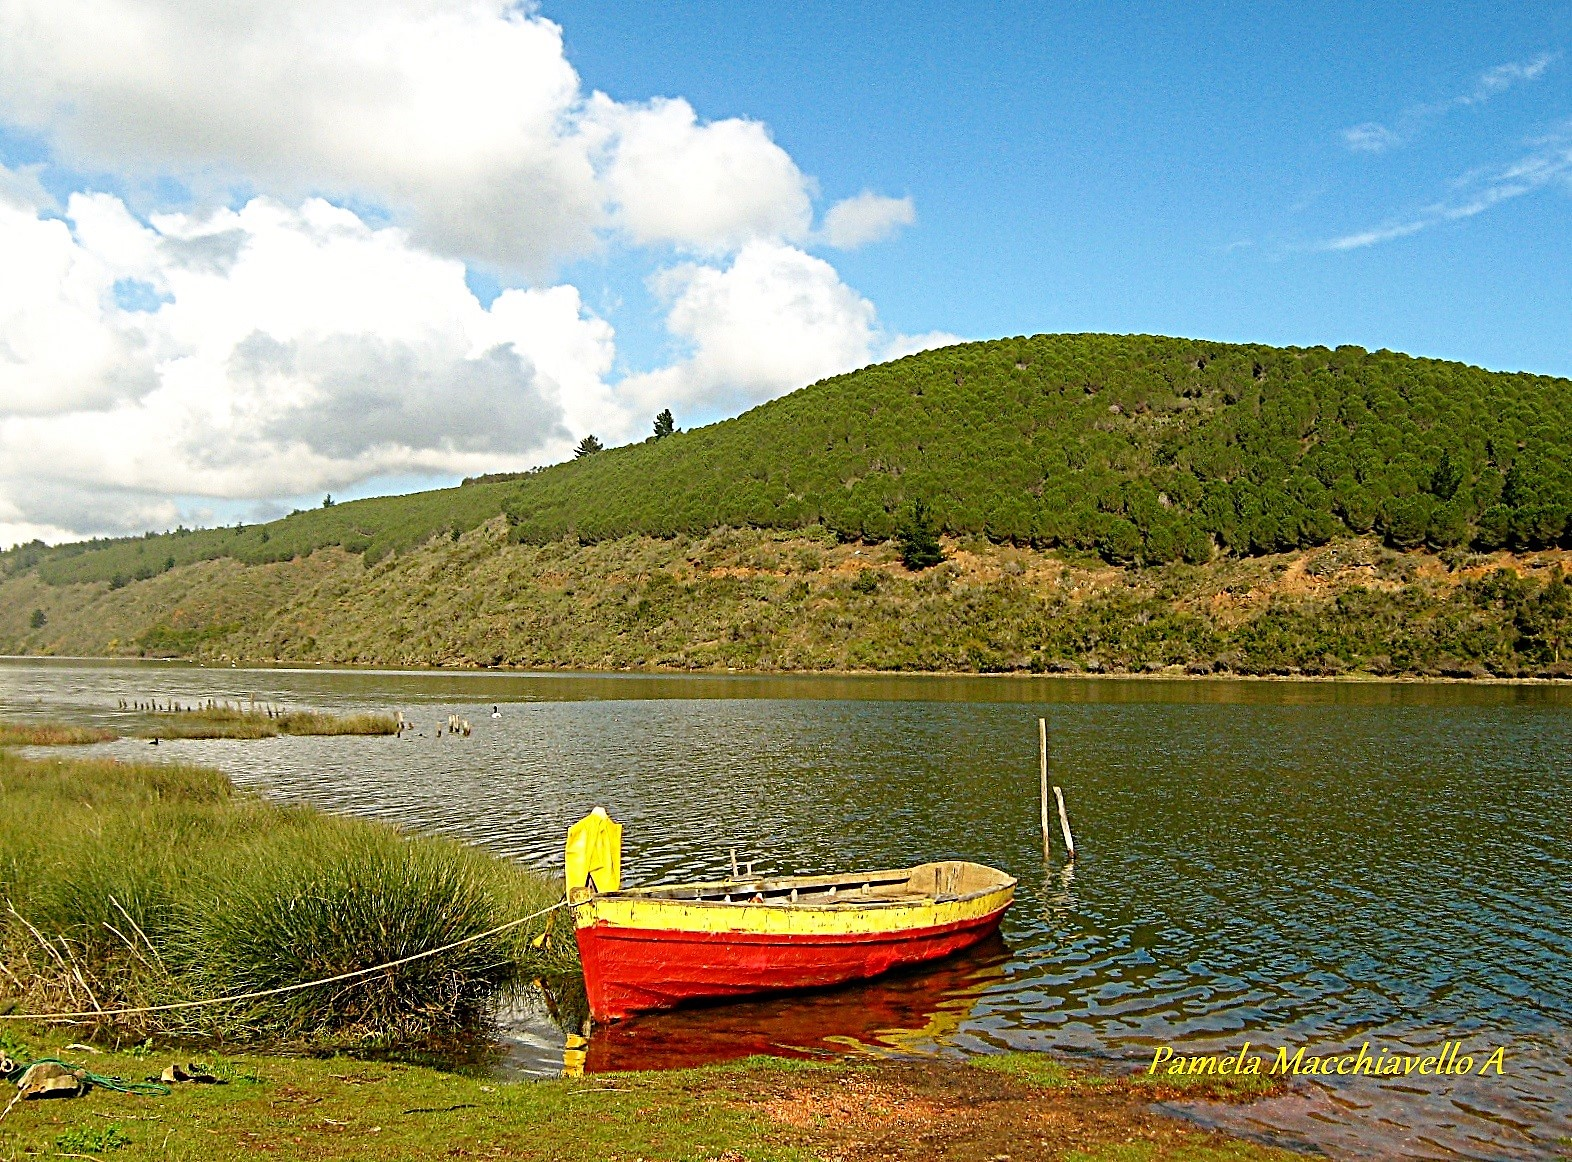boat: (554, 795, 1029, 1027)
